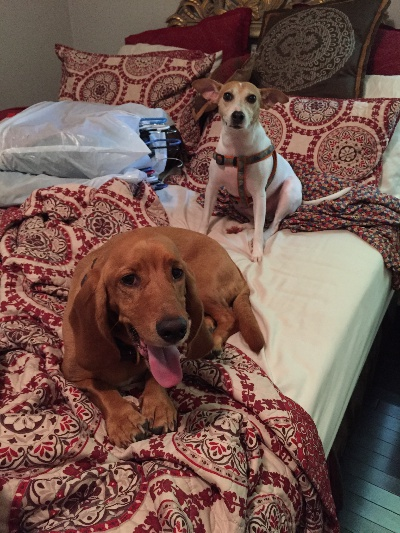daisy: (50, 230, 212, 395)
